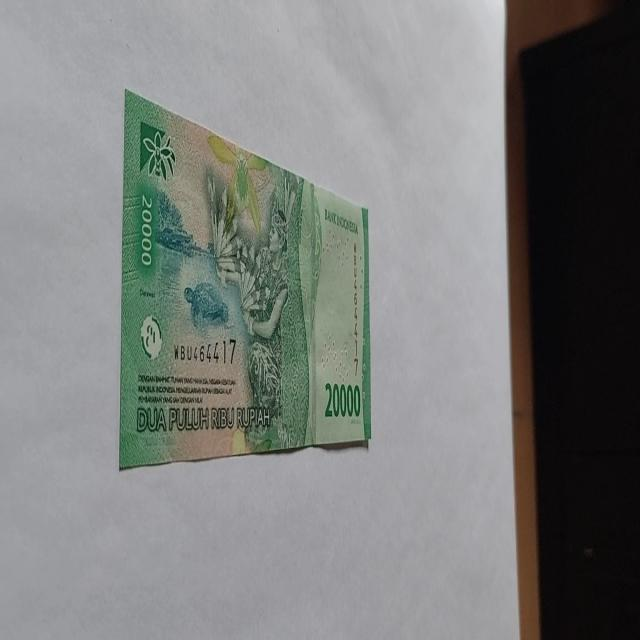dua puluh ribu rupiah: (118, 88, 372, 471)
